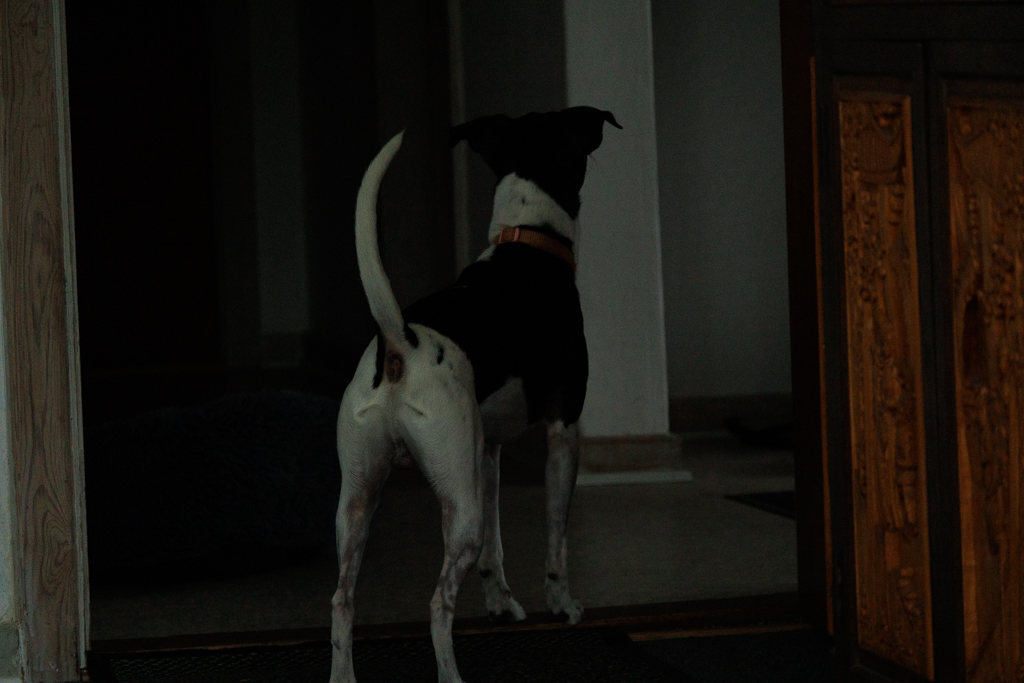Dog: (319, 89, 636, 683)
